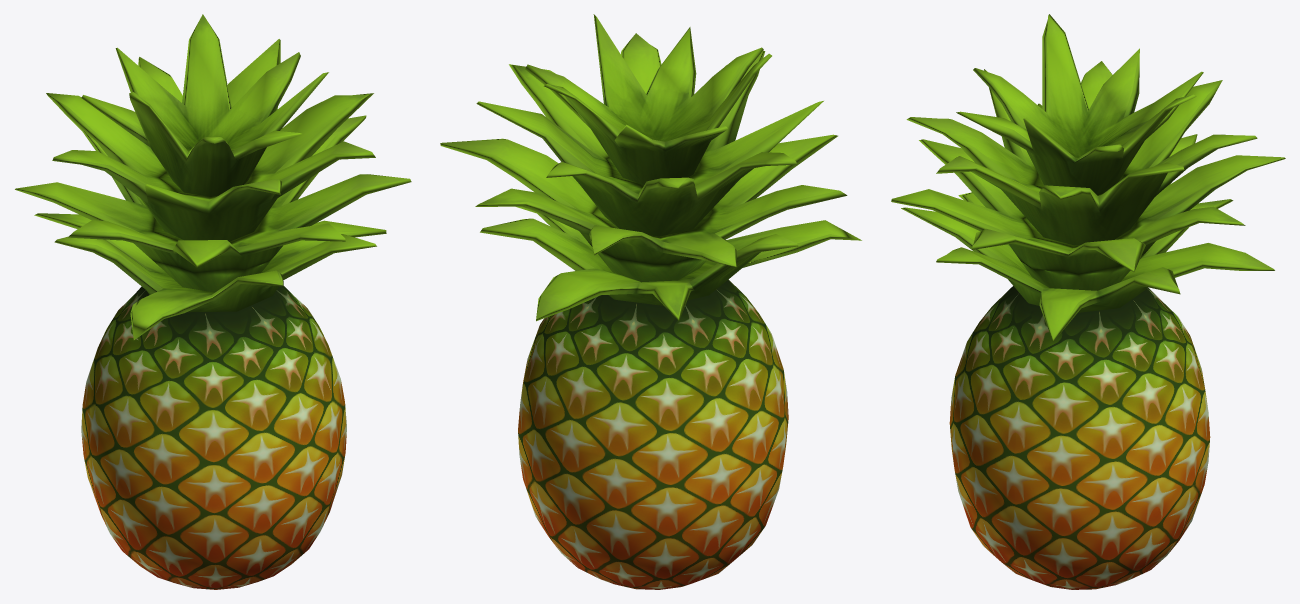
Rendered from pineApple.glb.
The picture shows the model from 3 angles, left to right: view 1: azimuth 30°, elevation 25°; view 2: azimuth 150°, elevation 25°; view 3: azimuth 270°, elevation 25°; orthographic projection. The views are drawn at different scales.
Parts seen in each view (by area): view 1: object_0; view 2: object_0; view 3: object_0.
Part boxes in pixels (x1,y1,x2,y2): object_0: [15, 14, 411, 589]; object_0: [440, 14, 861, 589]; object_0: [891, 14, 1285, 589].
Size of the model in its own units: 0.6702 by 0.953 by 0.6657.
Materials: 1 (1 with a texture image).
